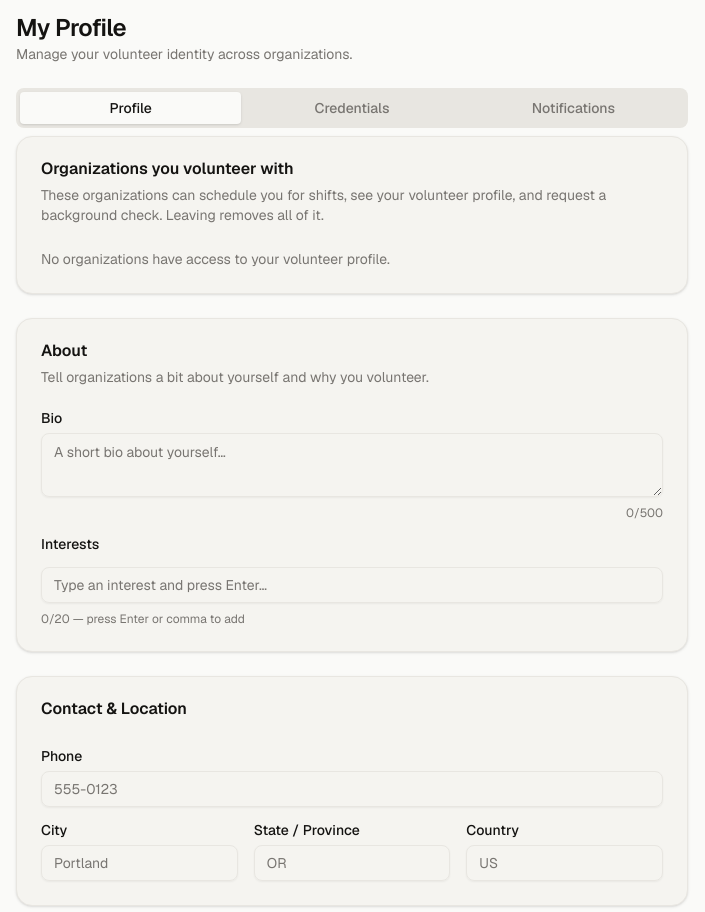
Test: NotificationPreferences error state › shows an error rather than every toggle at its default
The width and height of the screenshot is (705, 912).
Click the tab "Notifications" at [573, 108], box [463,92,684,124]
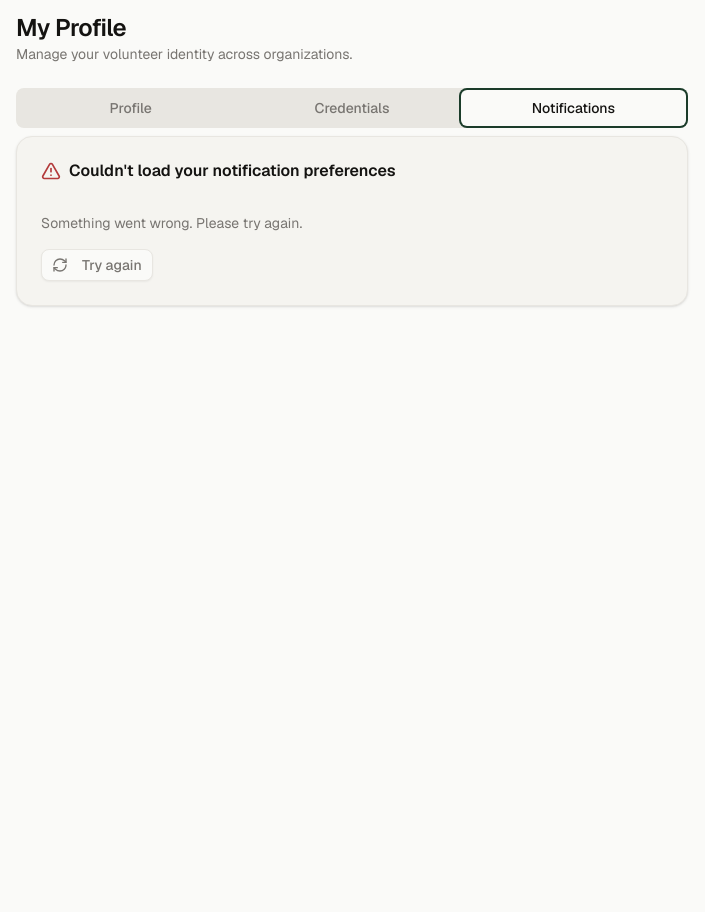
Expected: the text "Couldn't load your notification preferences" is shown, [41,160,396,181]
